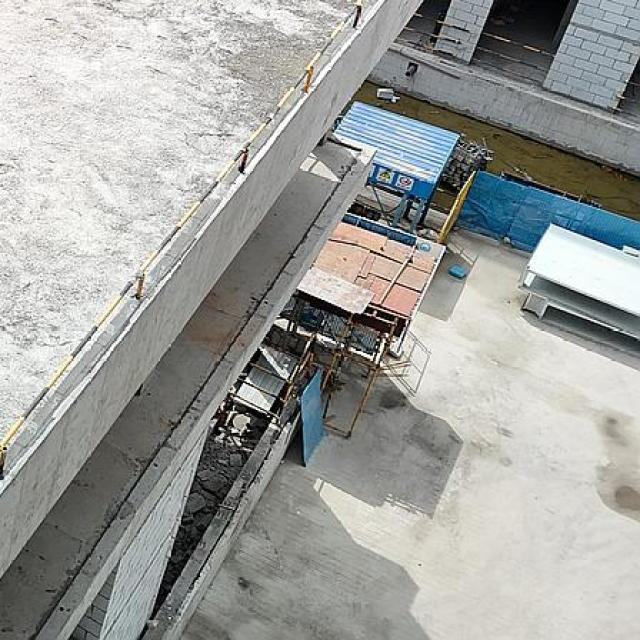edge_guardrail: (0, 0, 366, 483), (471, 31, 556, 85), (396, 12, 471, 61), (611, 78, 640, 119)
